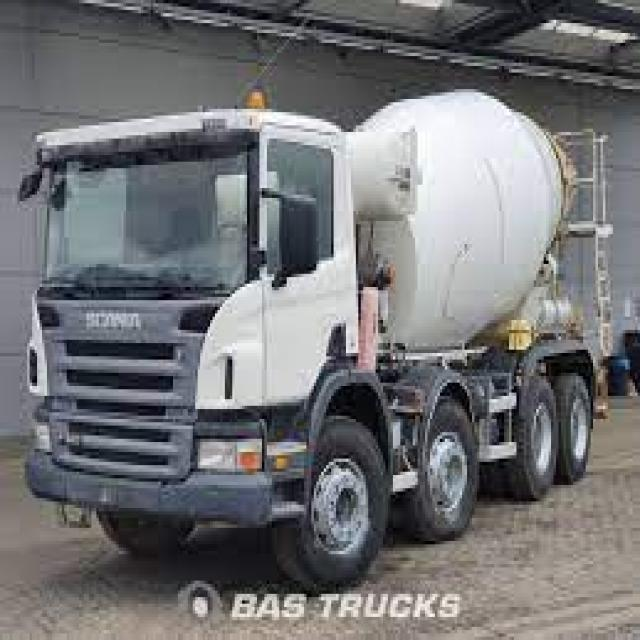Mixer Truck: (17, 83, 620, 589)
